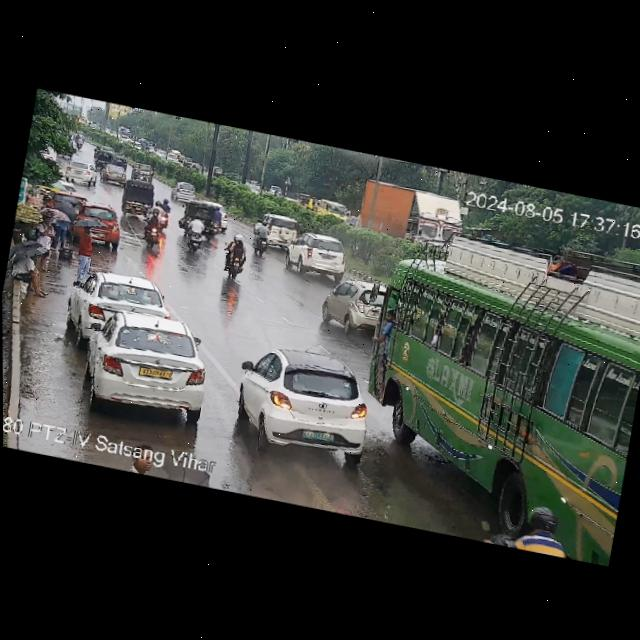bus: (355, 206, 640, 460)
car: (226, 340, 377, 466), (79, 304, 215, 419), (70, 265, 170, 344), (320, 273, 399, 339), (283, 229, 355, 284), (72, 201, 127, 246), (255, 212, 305, 255), (120, 175, 163, 220), (176, 196, 219, 233), (60, 158, 99, 186), (167, 178, 197, 204), (98, 162, 129, 186), (128, 159, 157, 184), (93, 148, 114, 170)
motorcycle: (218, 229, 251, 284), (178, 215, 211, 255), (139, 207, 164, 250), (251, 220, 273, 255), (74, 138, 85, 151)
person: (5, 247, 57, 300), (61, 219, 102, 282), (26, 209, 62, 270)
truck: (354, 173, 460, 255)
